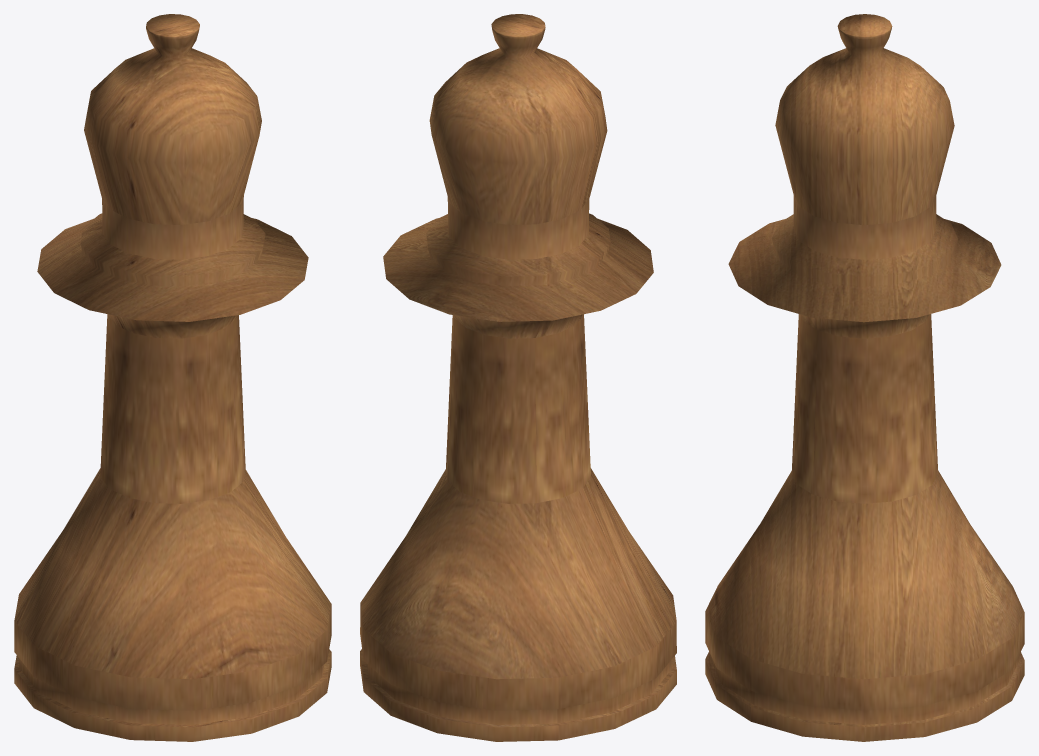
File: idk_b.glb
The picture shows the model from 3 angles, left to right: view 1: azimuth 30°, elevation 25°; view 2: azimuth 150°, elevation 25°; view 3: azimuth 270°, elevation 25°; orthographic projection.
Visible parts, largest first — view 1: Cylinder.022_Material_0; view 2: Cylinder.022_Material_0; view 3: Cylinder.022_Material_0.
Part boxes in pixels (x1,y1,x2,y2): Cylinder.022_Material_0: (14,14,331,741); Cylinder.022_Material_0: (360,14,676,741); Cylinder.022_Material_0: (705,14,1024,741).
Size of the model in its own units: 6.49 by 14.54 by 6.49.
1 material, 1 textured.
